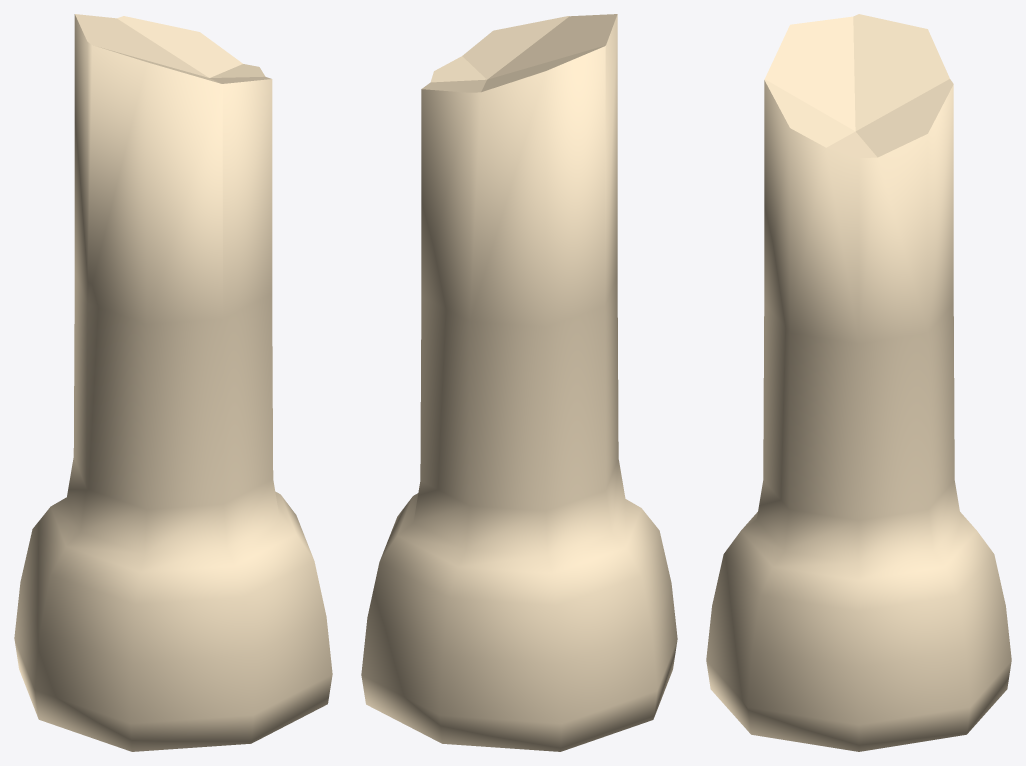
File: columnN02.fbx
3 views of the same model, side by side, from view 1: azimuth 30°, elevation 25°; view 2: azimuth 150°, elevation 25°; view 3: azimuth 270°, elevation 25° (orthographic). The views are drawn at different scales.
Parts seen in each view (by area): view 1: columnN02; view 2: columnN02; view 3: columnN02.
Part boxes in pixels (x1,y1,x2,y2): columnN02: (14,14,332,751); columnN02: (361,14,677,751); columnN02: (706,14,1011,751).
Bounding box in the file's own units: 248 × 580 × 248.
